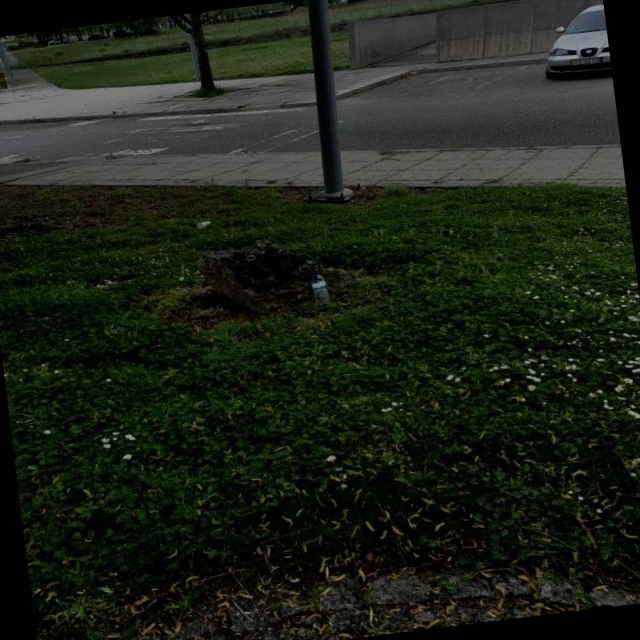Plastic-bottle: (310, 267, 338, 313)
